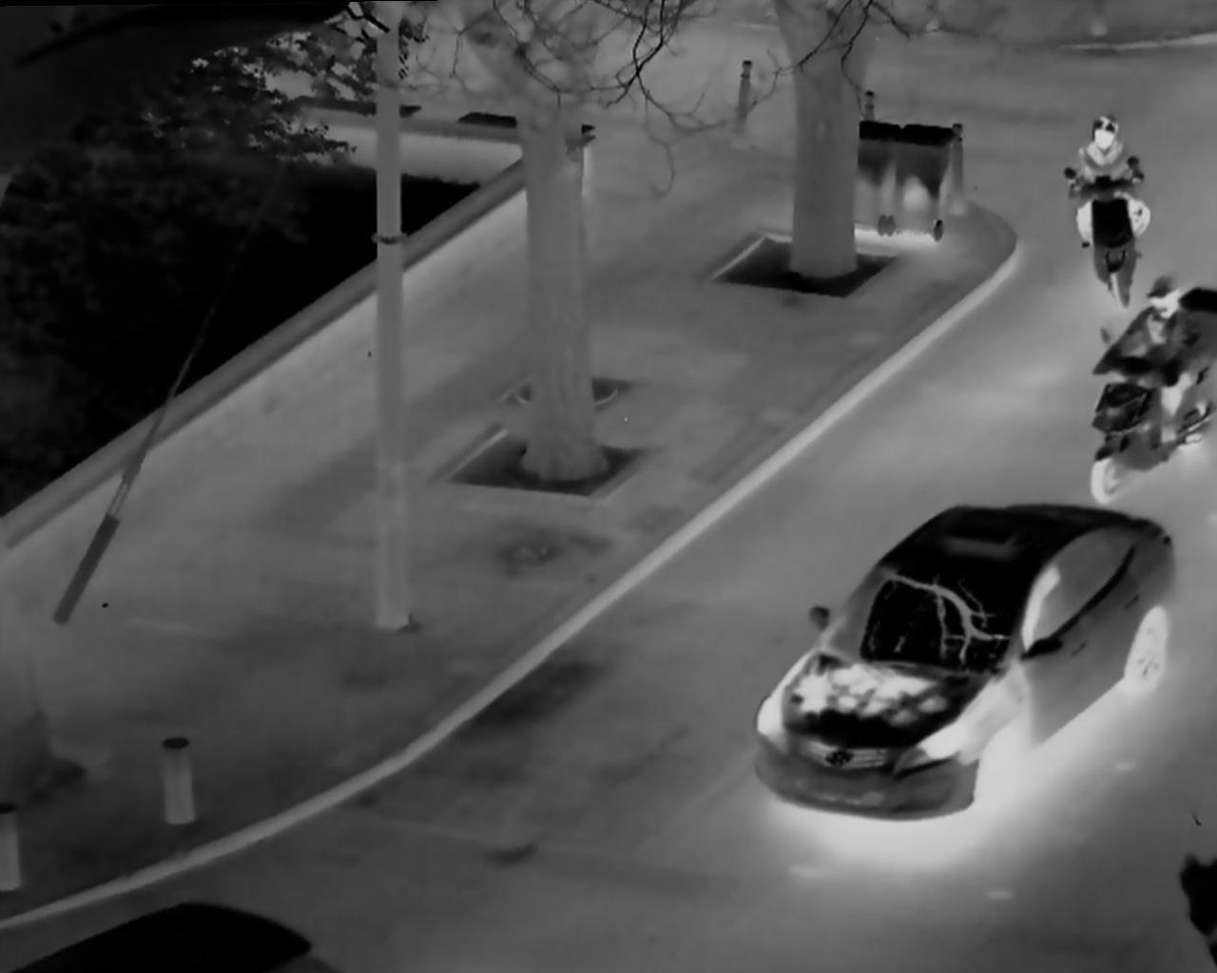person: (1100, 271, 1203, 465), (1066, 103, 1152, 283)
